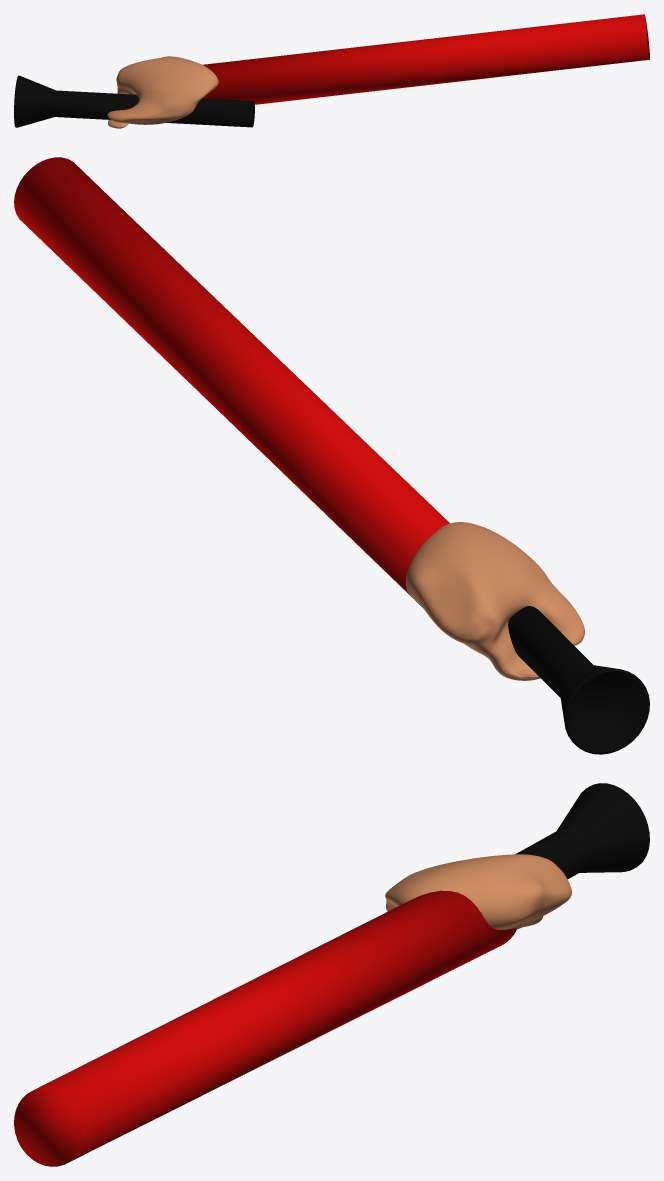
File: handgood_.obj
3 views of the same model, one above another, from view 1: azimuth 30°, elevation 25°; view 2: azimuth 150°, elevation 25°; view 3: azimuth 270°, elevation 25° (orthographic). The views are drawn at different scales.
Parts seen in each view (by area): view 1: Cylinder; view 2: Cylinder; view 3: Cylinder.
Boxes of the visible parts, x1=… form: Cylinder: x1=14, y1=14, x2=649, y2=128; Cylinder: x1=14, y1=157, x2=649, y2=754; Cylinder: x1=14, y1=783, x2=649, y2=1166.
Bounding box in the file's own units: 43.22 × 8.98 × 26.65.
